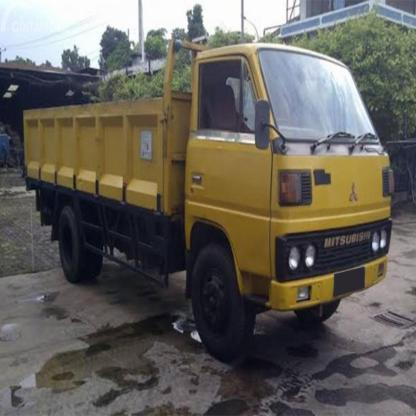truck: (24, 42, 398, 346)
